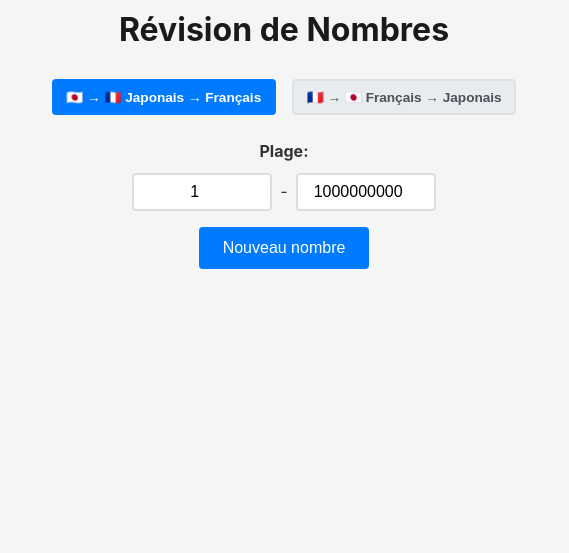
Scenario: NumberRevisionPage › jp-to-fr mode shows audio controls by default
This screenshot has width=569, height=553.
Click the button "Nouveau nombre" at (284, 248), box [199,227,369,269]
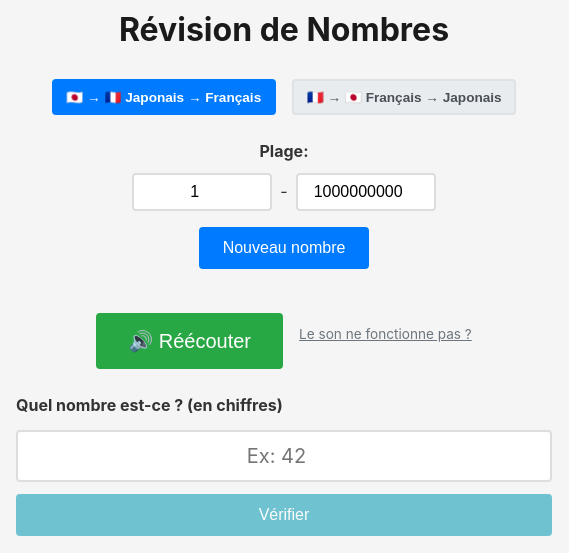
Check: the button "🔊 Réécouter" is shown, box [96,313,283,369]
